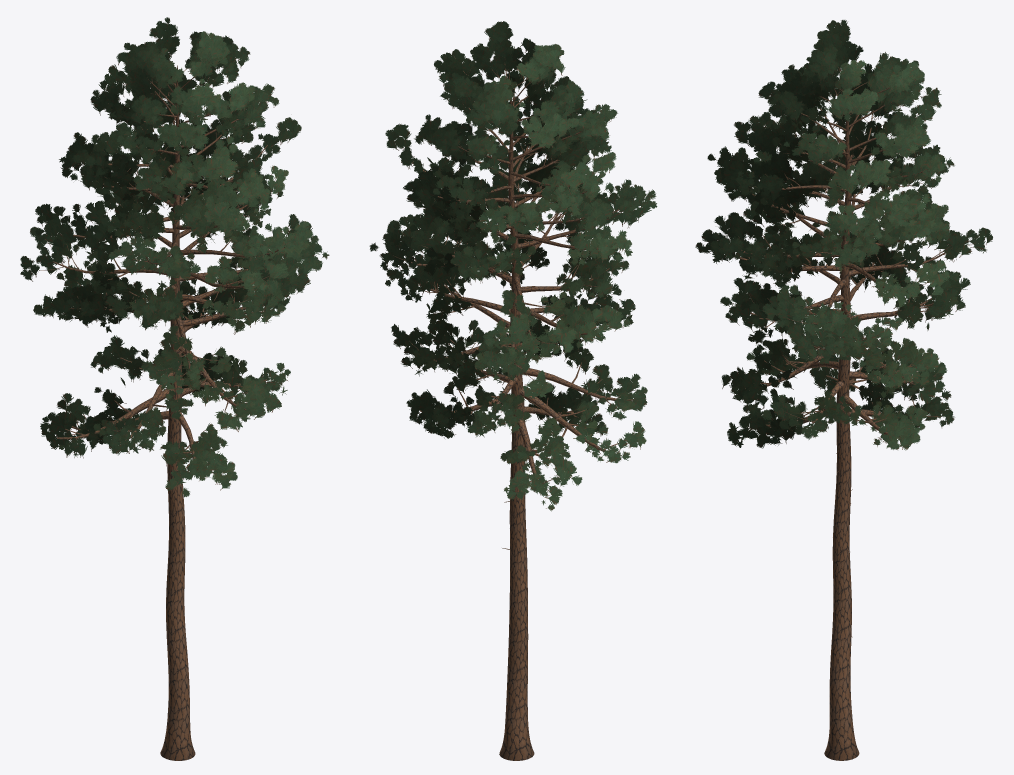
File: pine_a.glb
The picture shows the model from 3 angles, left to right: view 1: azimuth 30°, elevation 25°; view 2: azimuth 150°, elevation 25°; view 3: azimuth 270°, elevation 25°; orthographic projection.
Visible parts, largest first — view 1: pine_a; view 2: pine_a; view 3: pine_a.
Part boxes in pixels (x1=…): pine_a: x1=20, y1=17, x2=329, y2=760; pine_a: x1=369, y1=21, x2=657, y2=760; pine_a: x1=695, y1=20, x2=992, y2=760.
Size of the model in its own units: 11.51 by 29.68 by 11.41.
2 materials, 2 textured.
